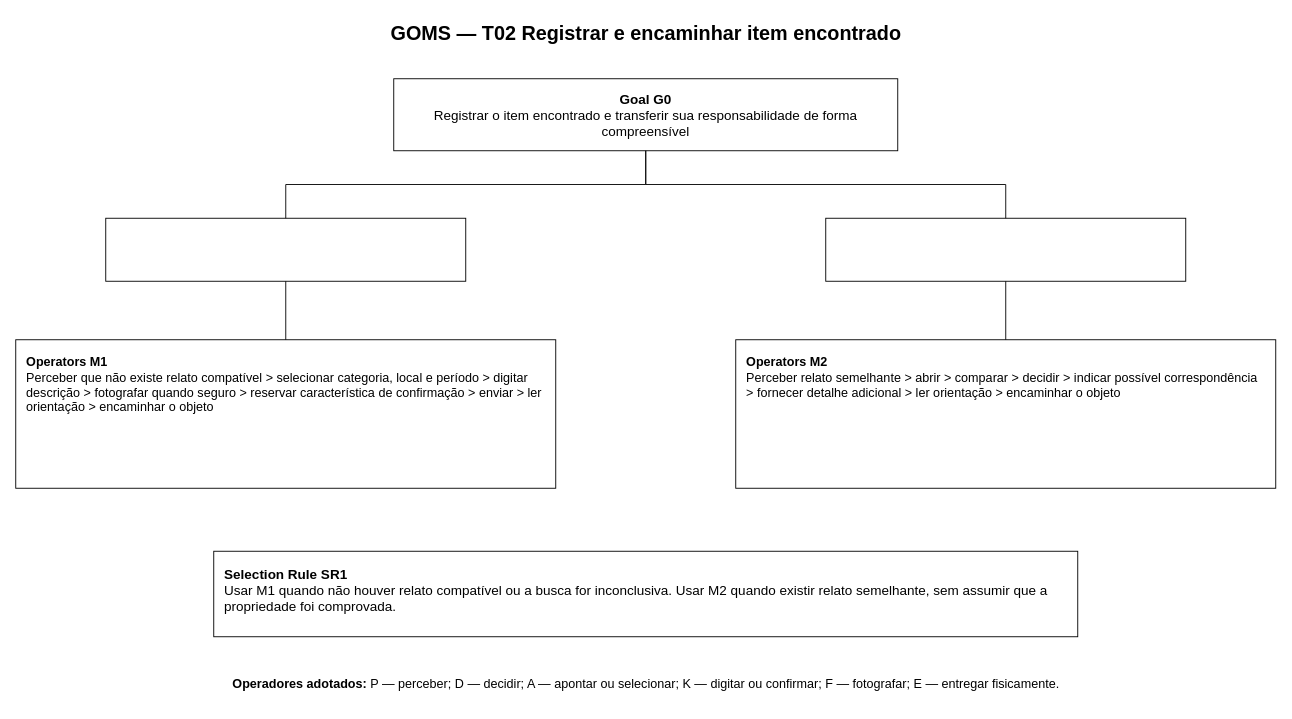
This 1292x719 diagram has some shape labels left out. The shapes that lost their labels are listed below. From the top down, each one's centre as x and y in pixels, then its label:
At (x=285, y=249): "Method M1 Registrar um novo achado".
At (x=1005, y=249): "Method M2 Indicar possível correspondência a uma perda existente".
